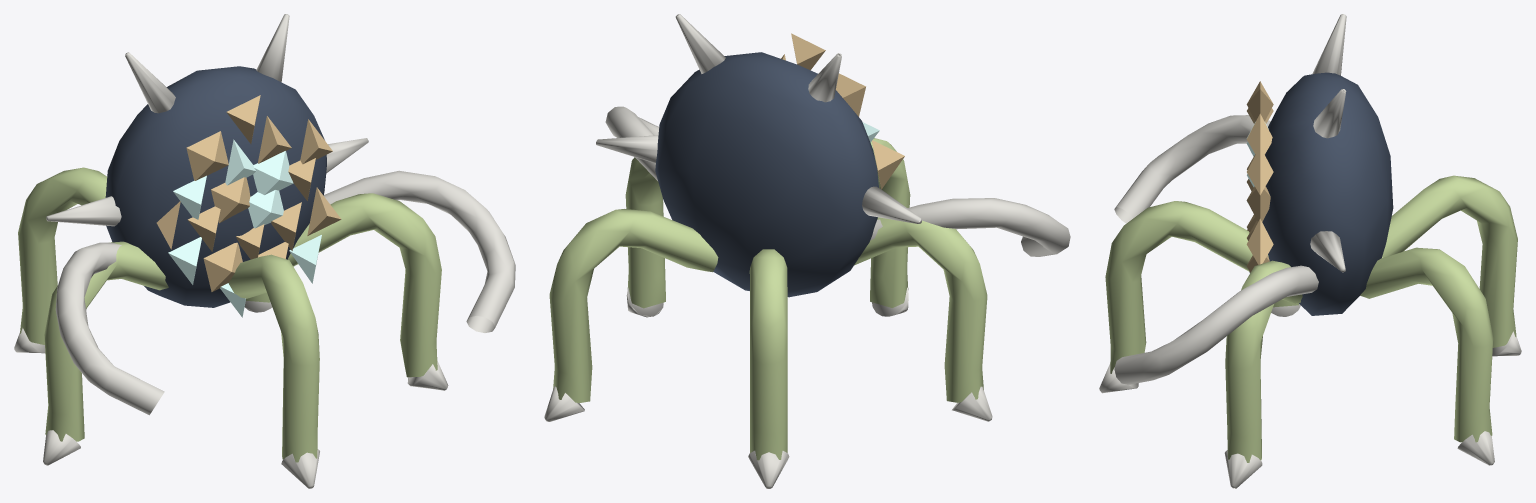
The model's file is bio_crown_stalker_05_far.glb.
The picture shows the model from 3 angles, left to right: view 1: azimuth 30°, elevation 25°; view 2: azimuth 150°, elevation 25°; view 3: azimuth 270°, elevation 25°; orthographic projection. The views are drawn at different scales.
Visible parts, largest first — view 1: Faceted crown substrate, Compound lens facet.001, Crooked support.004, Crooked support.003, Scythe sensory limb.001, Crooked support.001, Scythe sensory limb, Crooked support.002, Compound lens facet, Crown radiating blade, Contact spur.003, Contact spur.002 (+1 smaller); view 2: Faceted crown substrate, Crooked support, Crooked support.002, Crooked support.001, Scythe sensory limb, Crown radiating blade, Crooked support.004, Crooked support.003, Compound lens facet.001, Scythe sensory limb.001, Contact spur.001, Contact spur (+1 smaller); view 3: Faceted crown substrate, Crooked support, Crooked support.003, Crooked support.001, Scythe sensory limb.001, Crooked support.004, Scythe sensory limb, Compound lens facet.001, Crown radiating blade, Contact spur.004, Contact spur, Contact spur.003.
Part boxes in pixels (x1=…): Faceted crown substrate: x1=105, y1=66, x2=326, y2=307; Compound lens facet.001: x1=156, y1=95, x2=341, y2=291; Crooked support.004: x1=288, y1=193, x2=441, y2=377; Crooked support.003: x1=228, y1=254, x2=319, y2=462; Scythe sensory limb.001: x1=323, y1=170, x2=515, y2=332; Crooked support.001: x1=18, y1=167, x2=107, y2=344; Scythe sensory limb: x1=55, y1=242, x2=164, y2=415; Crooked support.002: x1=44, y1=241, x2=168, y2=441; Compound lens facet: x1=168, y1=139, x2=321, y2=317; Crown radiating blade: x1=46, y1=14, x2=368, y2=226; Contact spur.003: x1=281, y1=449, x2=319, y2=488; Contact spur.002: x1=43, y1=430, x2=80, y2=465; Faceted crown substrate: x1=655, y1=52, x2=878, y2=297; Crooked support: x1=549, y1=209, x2=718, y2=403; Crooked support.002: x1=854, y1=217, x2=987, y2=402; Crooked support.001: x1=749, y1=249, x2=787, y2=460; Scythe sensory limb: x1=870, y1=198, x2=1070, y2=256; Crown radiating blade: x1=596, y1=14, x2=921, y2=223; Crooked support.004: x1=625, y1=157, x2=665, y2=308; Crooked support.003: x1=870, y1=138, x2=910, y2=307; Compound lens facet.001: x1=781, y1=33, x2=904, y2=189; Scythe sensory limb.001: x1=605, y1=106, x2=659, y2=180; Contact spur.001: x1=748, y1=450, x2=789, y2=488; Contact spur: x1=544, y1=386, x2=584, y2=421; Faceted crown substrate: x1=1262, y1=72, x2=1393, y2=315; Crooked support: x1=1360, y1=247, x2=1493, y2=442; Crooked support.003: x1=1105, y1=201, x2=1268, y2=373; Crooked support.001: x1=1382, y1=175, x2=1517, y2=347; Scythe sensory limb.001: x1=1114, y1=265, x2=1318, y2=384; Crooked support.004: x1=1225, y1=260, x2=1302, y2=462; Scythe sensory limb: x1=1114, y1=115, x2=1270, y2=223; Compound lens facet.001: x1=1246, y1=81, x2=1273, y2=272; Crown radiating blade: x1=1310, y1=14, x2=1346, y2=272; Contact spur.004: x1=1224, y1=450, x2=1262, y2=488; Contact spur: x1=1457, y1=431, x2=1494, y2=465; Contact spur.003: x1=1099, y1=363, x2=1138, y2=393.
Bounding box in the file's own units: 2.59 × 2.03 × 2.22.
